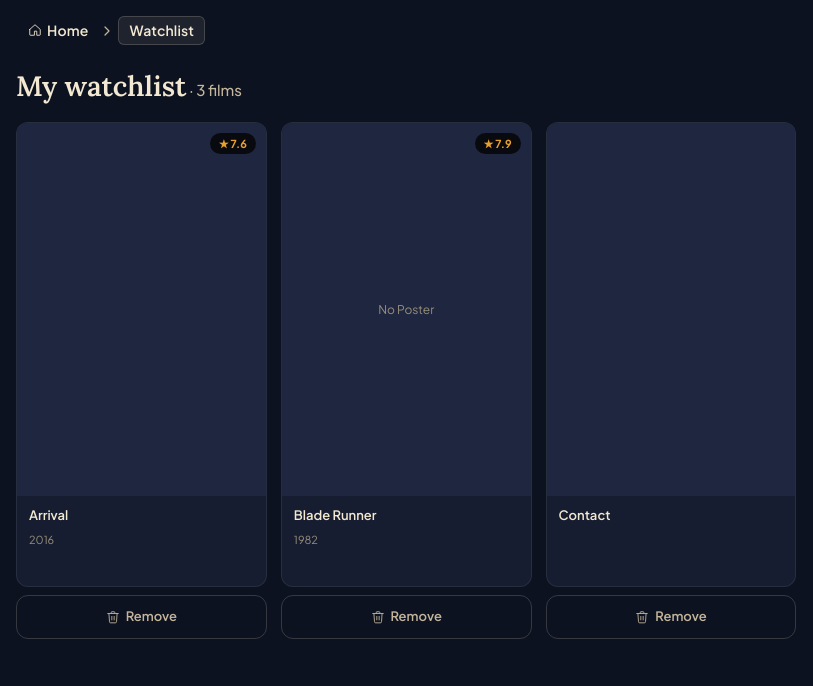
Test: /watchlist › drops a removed card before the delete answers
Click the button with aria-label "Remove Blade Runner" at [406, 617], box [281,595,532,639]
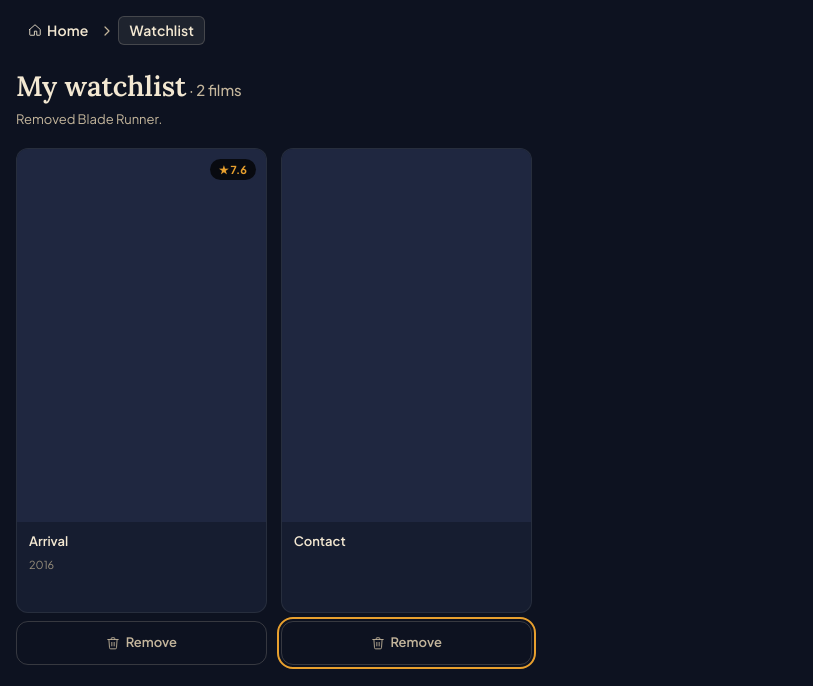
Result: the heading "My watchlist · 2 films" is shown at [16,68,242,104]
Result: the text "Removed Blade Runner." is shown at [16,111,162,127]
